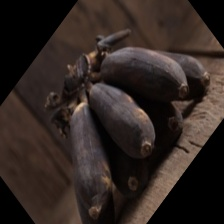banana: (18, 19, 219, 192)
